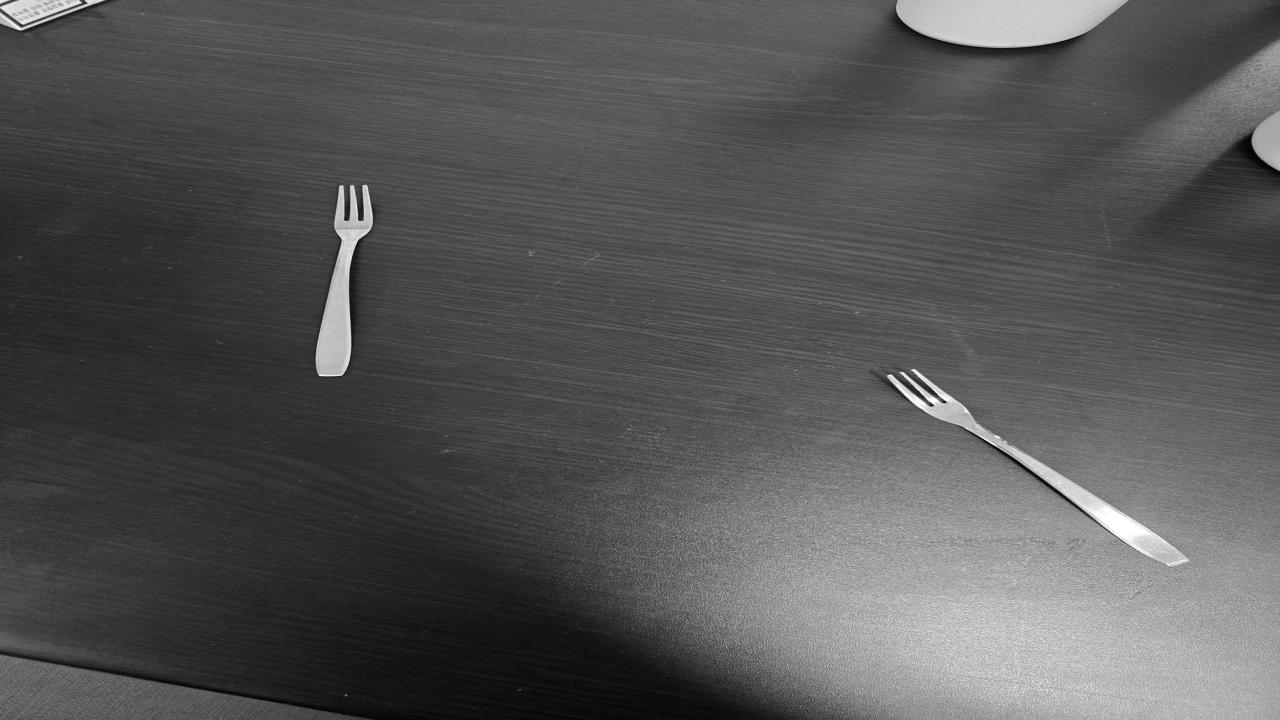fork: (880, 368, 1172, 569), (307, 181, 379, 378)
